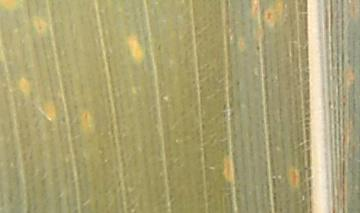tarspot: (255, 44, 261, 51)
